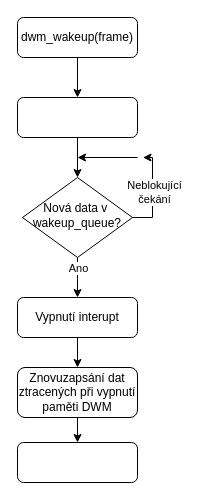
The diagram is 198 pixels wide and 500 high, and some of its shapes have lost their labels. The centre of each missing label's shape, as x and y in pixels:
Uvedení budícího pinu do HIGH polohy: (77,117)
Zapnutí interupt: (77,462)
